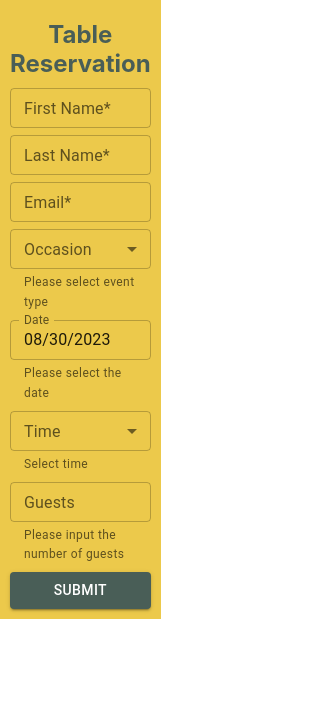
Form submission with invalid email inputs
The image size is (320, 708).
Step 1. Type "Jhon" into the field labelled "Email*" → (80,202), box [10,182,151,222]
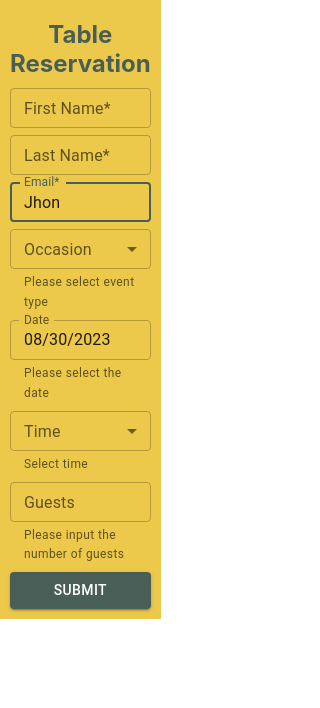
Step 2. Click the button "Submit" → (80,591), box [10,572,151,609]
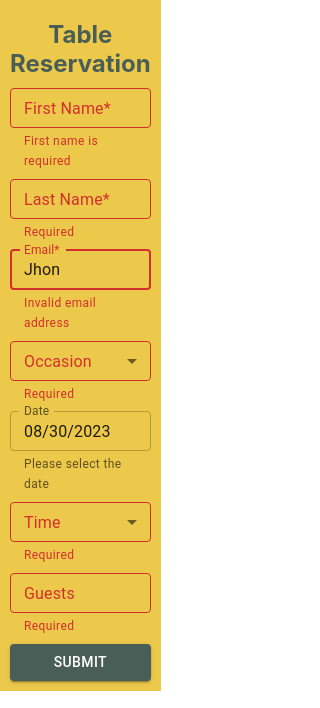
Result: the text "Invalid email address" is shown at [24,296,96,330]
